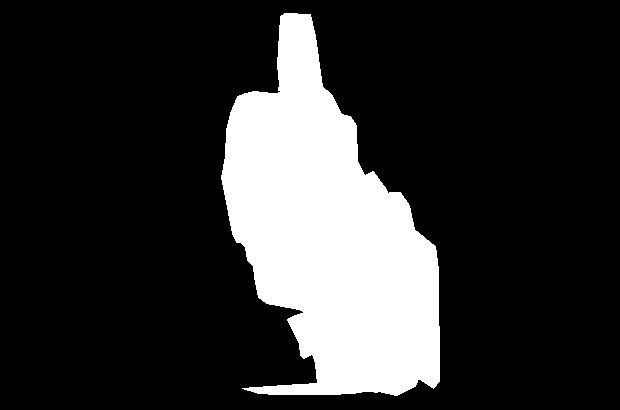type2: (216, 9, 444, 398)
